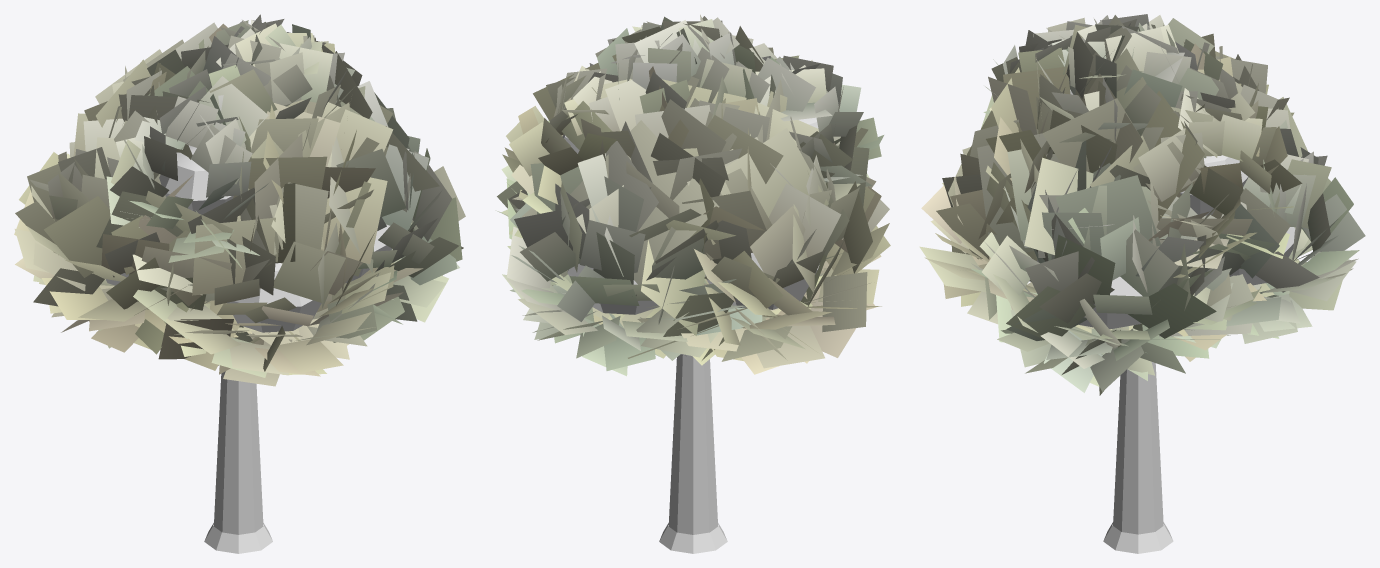
Rendered from tree_oak_small.glb.
3 renders of one model, left to right at view 1: azimuth 30°, elevation 25°; view 2: azimuth 150°, elevation 25°; view 3: azimuth 270°, elevation 25°, orthographic. The views are drawn at different scales.
Visible parts, largest first — view 1: tree_oak_small; view 2: tree_oak_small; view 3: tree_oak_small.
Boxes of the visible parts, x1,y1,x2,y2 form: tree_oak_small: (14,14,465,553); tree_oak_small: (495,14,890,553); tree_oak_small: (919,14,1365,553).
Bounding box in the file's own units: 4.43 × 5.49 × 4.26.
